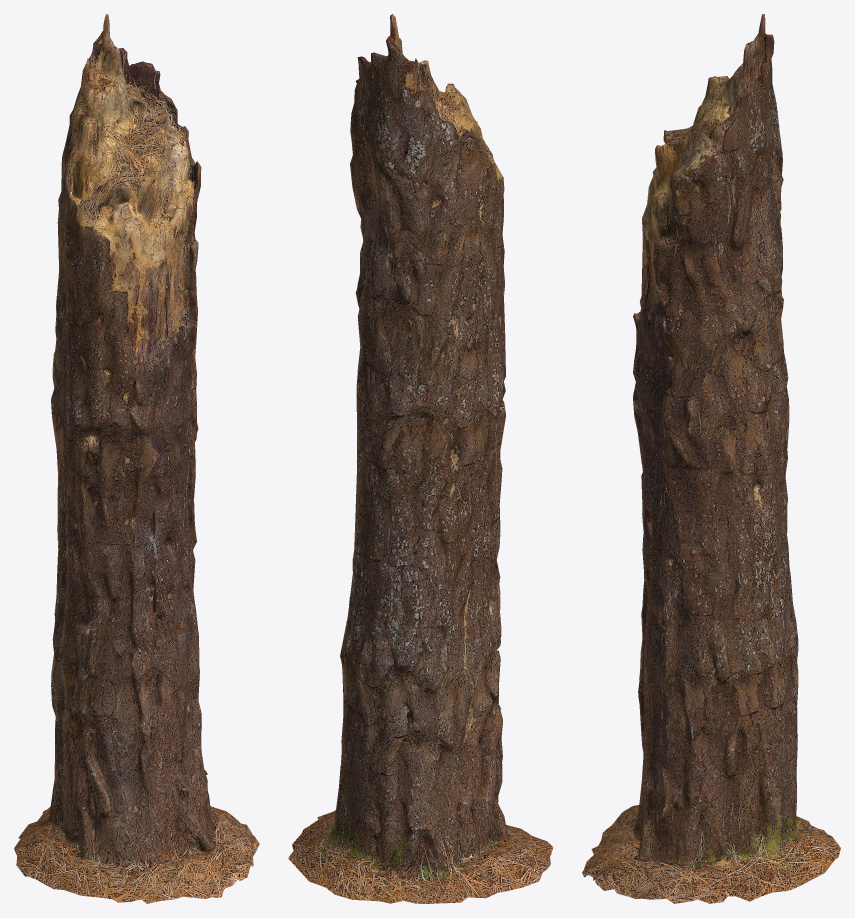
The model's file is stump.glb.
3 views of the same model, side by side, from view 1: azimuth 30°, elevation 25°; view 2: azimuth 150°, elevation 25°; view 3: azimuth 270°, elevation 25° (orthographic). The views are drawn at different scales.
Parts seen in each view (by area): view 1: stump_S_Pine_Tree_Stump_rltsN_lod3_LOD1; view 2: stump_S_Pine_Tree_Stump_rltsN_lod3_LOD1; view 3: stump_S_Pine_Tree_Stump_rltsN_lod3_LOD1.
Boxes of the visible parts, box(x1,y1,x2,y2) form: stump_S_Pine_Tree_Stump_rltsN_lod3_LOD1: box(14, 14, 259, 903); stump_S_Pine_Tree_Stump_rltsN_lod3_LOD1: box(288, 14, 553, 903); stump_S_Pine_Tree_Stump_rltsN_lod3_LOD1: box(582, 14, 840, 903).
Size of the model in its own units: 1.45 by 5.29 by 1.46.
Materials: 1 (1 with a texture image).
